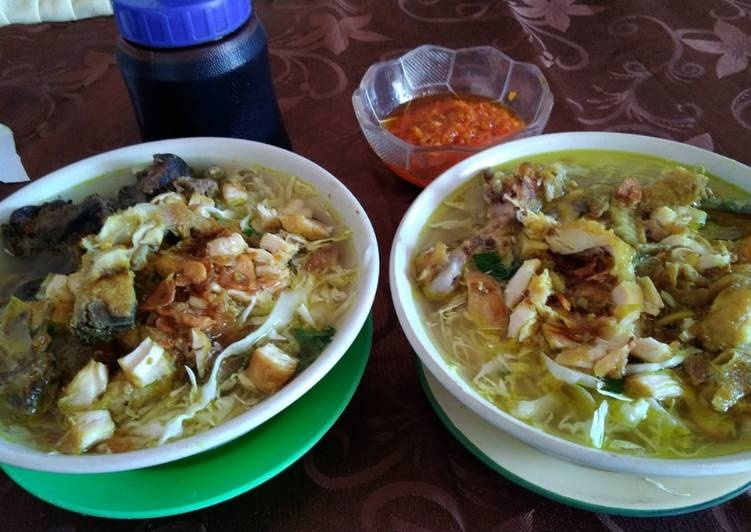soto: (400, 126, 747, 456), (2, 164, 390, 446)
